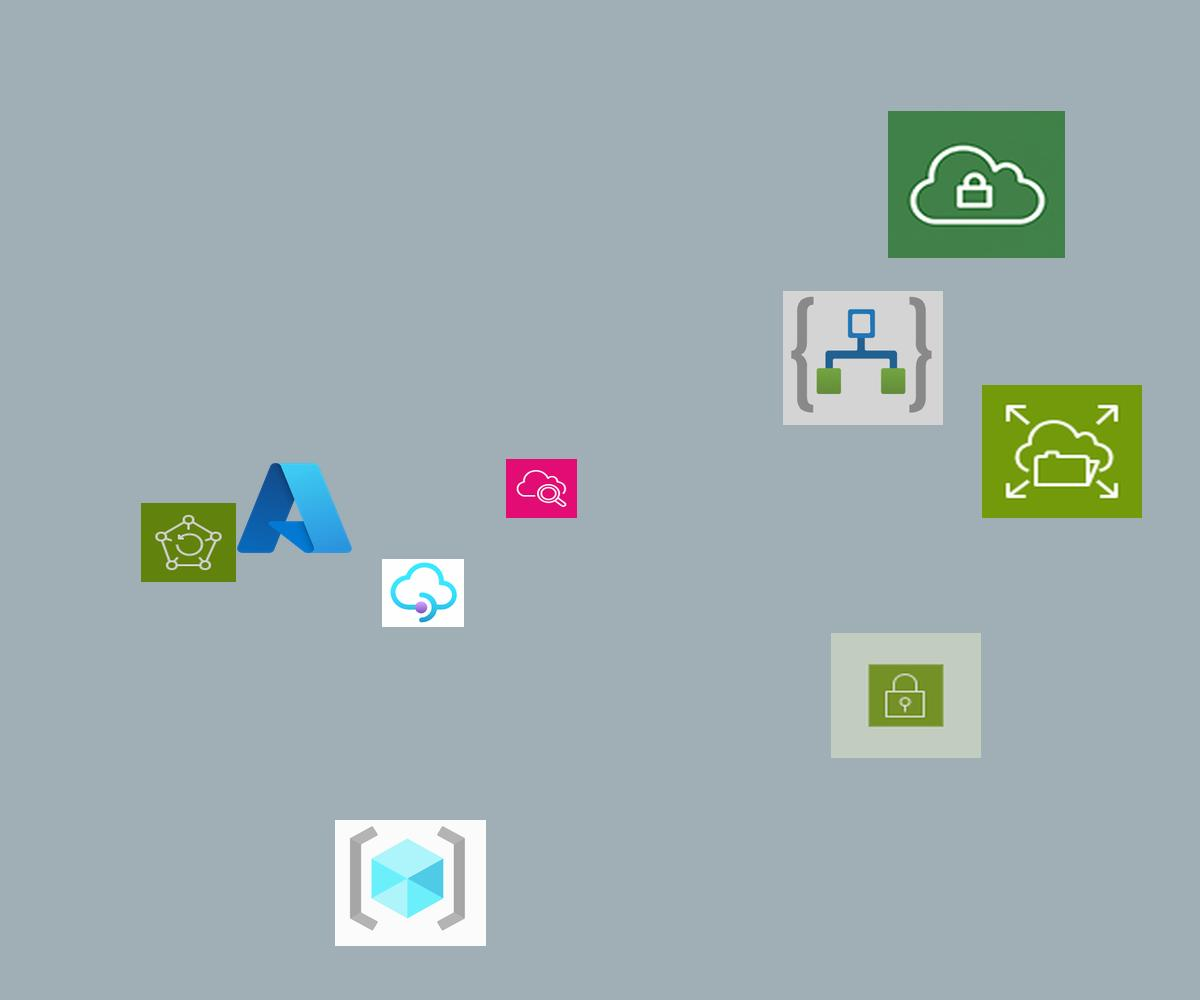AWS-Backup: (141, 503, 236, 582)
AWS-CloudWatch: (506, 459, 577, 518)
AWS-EFS: (982, 385, 1142, 518)
AWS-Private_vpc: (888, 111, 1065, 258)
AWS-Public-subnet: (831, 633, 981, 758)
Azure_api_gateway: (382, 559, 464, 627)
Azure_integration-204-Logic-Apps: (783, 291, 943, 425)
Azure_resource_group: (335, 820, 486, 946)
Azure_services: (232, 456, 357, 560)
